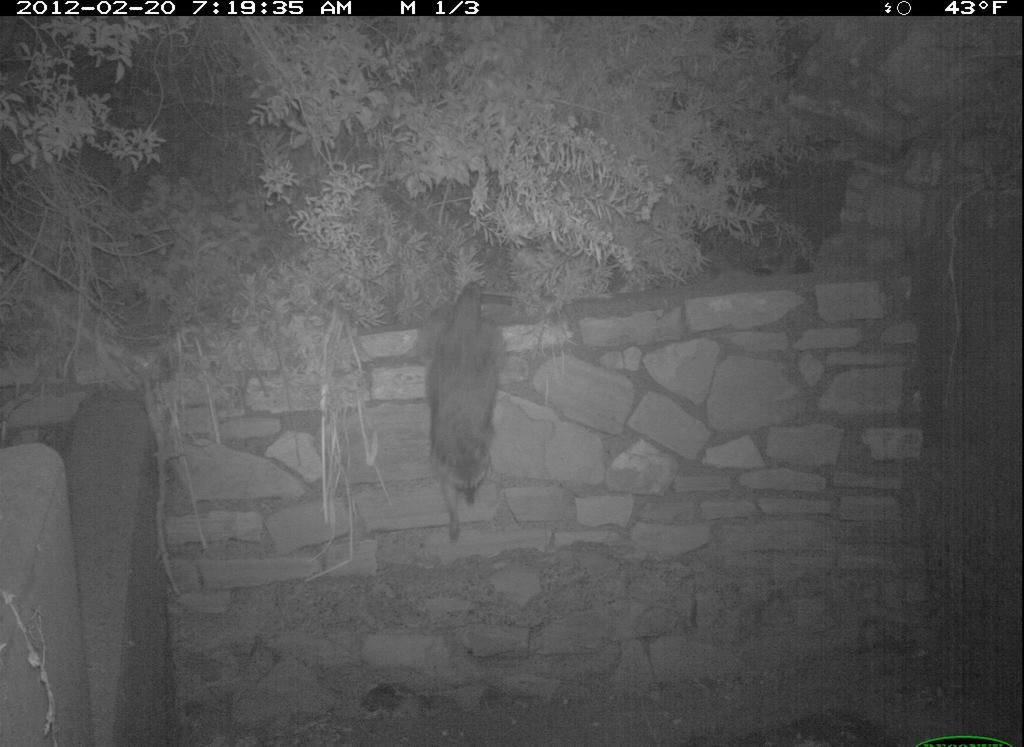raccoon: (378, 260, 548, 553)
